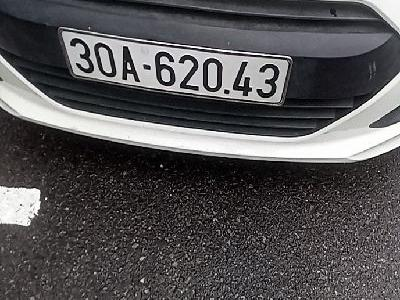number: (61, 23, 286, 108)
